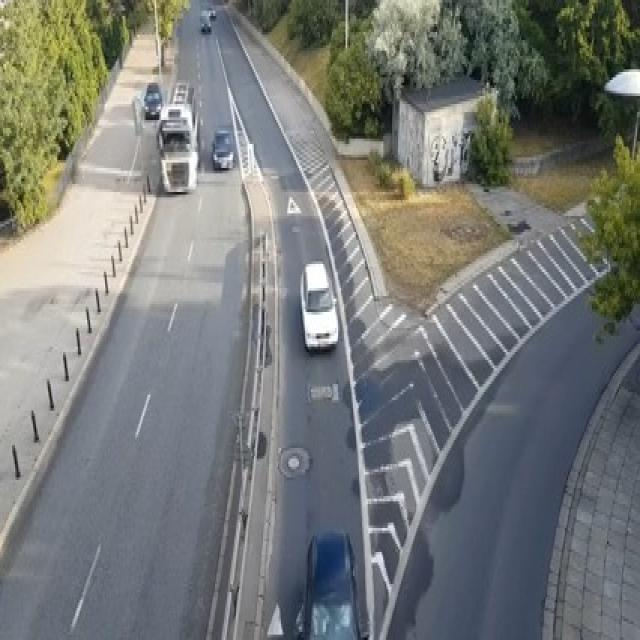car: (293, 528, 362, 637), (299, 259, 338, 352), (210, 128, 234, 168), (141, 80, 162, 117), (171, 80, 194, 107), (200, 8, 210, 32), (208, 5, 216, 19)
